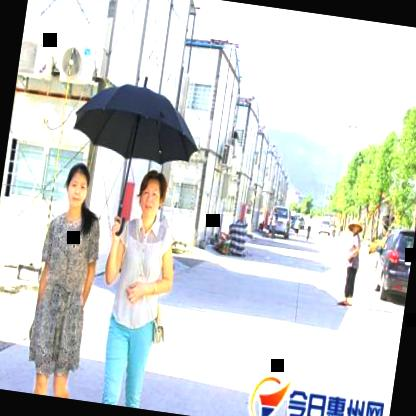head: (130, 165, 170, 228), (59, 157, 95, 215)
